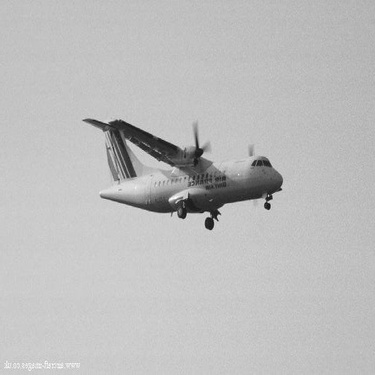airplane: (33, 84, 316, 250)
